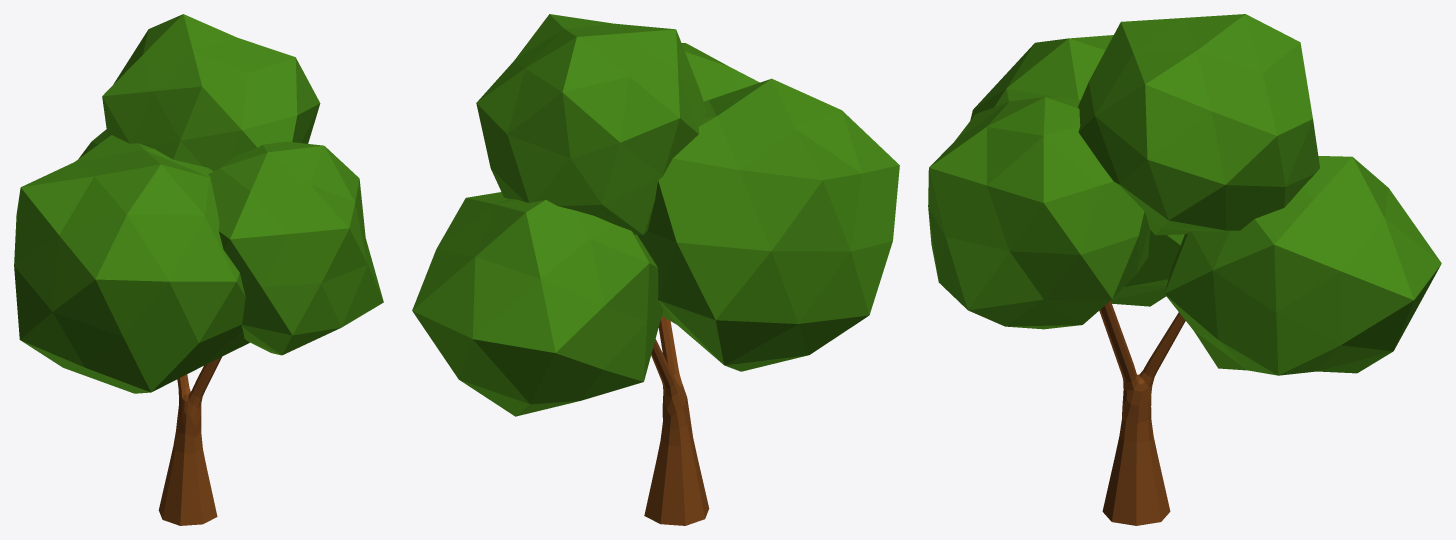
File: oak_1.glb
The picture shows the model from 3 angles, left to right: view 1: azimuth 30°, elevation 25°; view 2: azimuth 150°, elevation 25°; view 3: azimuth 270°, elevation 25°; orthographic projection. The views are drawn at different scales.
Parts seen in each view (by area): view 1: Plane; view 2: Plane; view 3: Plane.
Boxes of the visible parts, x1,y1,x2,y2 form: Plane: (14,14,383,525); Plane: (412,14,899,525); Plane: (928,14,1441,525).
Size of the model in its own units: 4.28 by 6.02 by 5.37.
